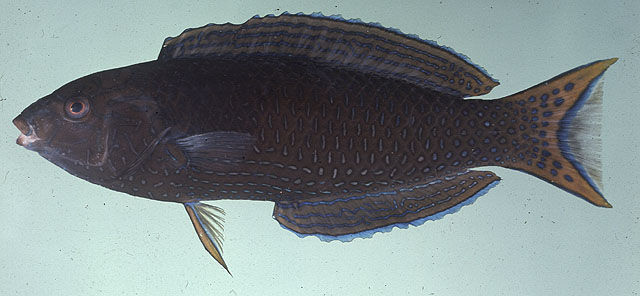fish: (11, 11, 617, 278)
